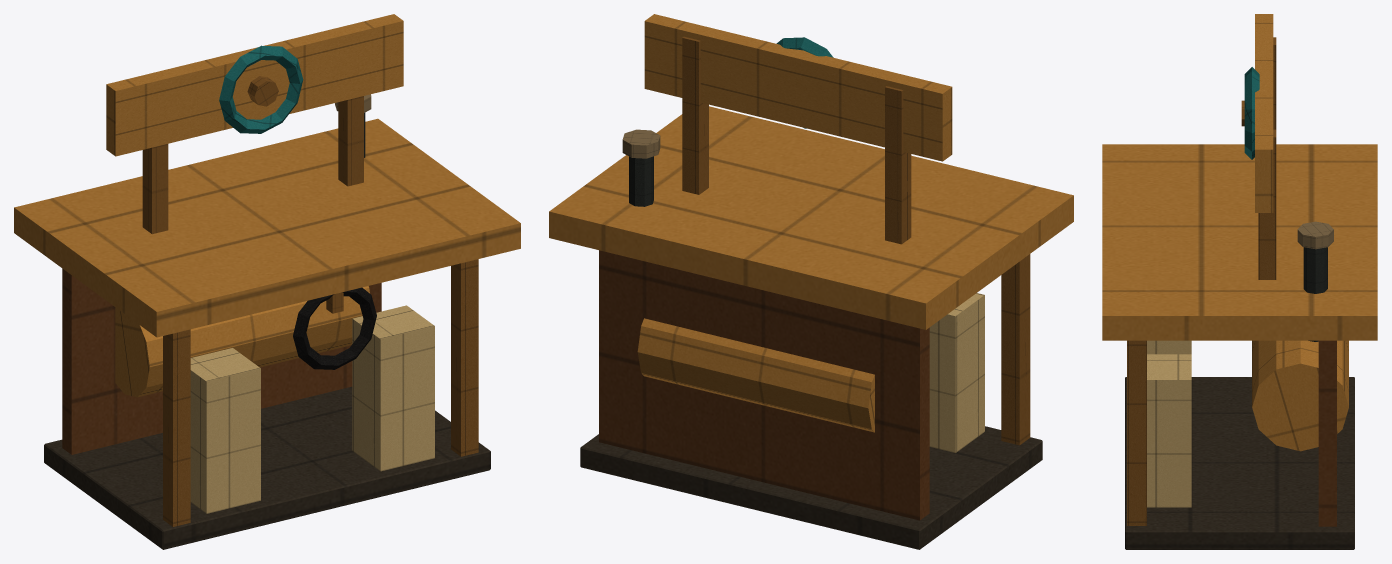
The model's file is filling-shed.e4.glb.
3 renders of one model, left to right at view 1: azimuth 30°, elevation 25°; view 2: azimuth 150°, elevation 25°; view 3: azimuth 270°, elevation 25°, orthographic. The views are drawn at different scales.
Visible parts, largest first — view 1: FillingShedE4; view 2: FillingShedE4; view 3: FillingShedE4.
Part boxes in pixels (x1,y1,x2,y2): FillingShedE4: (14, 14, 520, 549); FillingShedE4: (549, 14, 1073, 549); FillingShedE4: (1102, 14, 1377, 549).
Size of the model in its own units: 2.68 by 2.93 by 1.82.
1 material, 1 textured.
